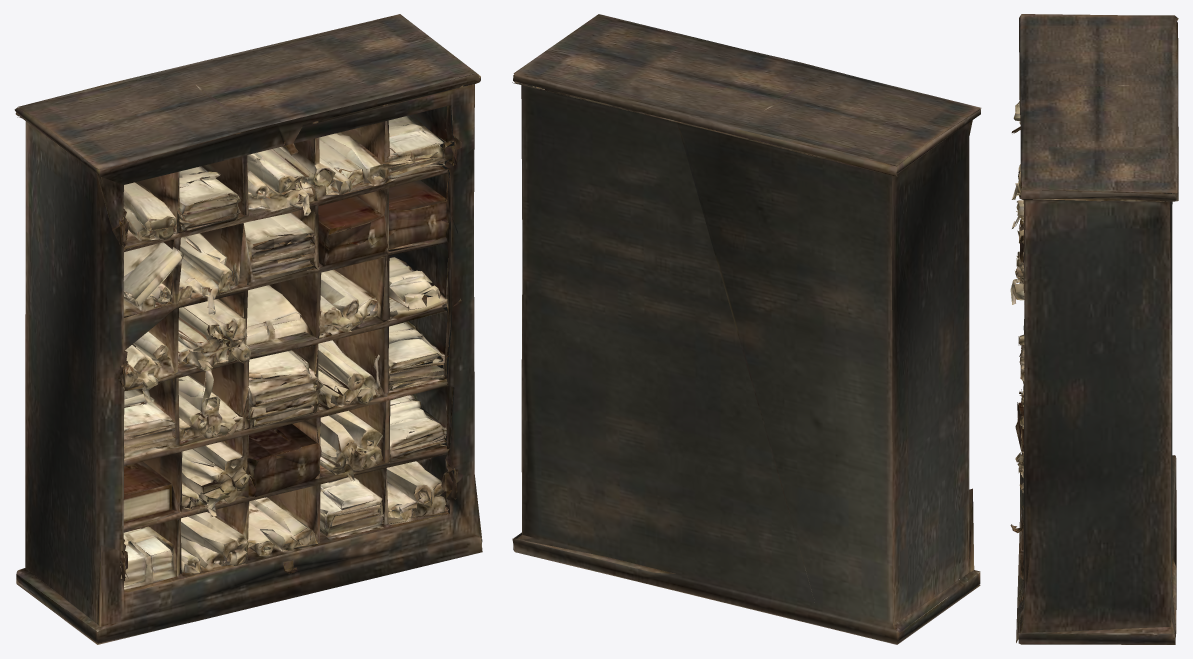
The model's file is court-record-pigeonholes.glb.
3 views of the same model, side by side, from view 1: azimuth 30°, elevation 25°; view 2: azimuth 150°, elevation 25°; view 3: azimuth 270°, elevation 25° (orthographic). The views are drawn at different scales.
Visible parts, largest first — view 1: Mesh_0; view 2: Mesh_0; view 3: Mesh_0.
Boxes of the visible parts, x1=… form: Mesh_0: x1=14, y1=14, x2=482, y2=644; Mesh_0: x1=512, y1=14, x2=981, y2=644; Mesh_0: x1=1010, y1=14, x2=1178, y2=644.
Bounding box in the file's own units: 1.6 × 1.9 × 0.6382.
1 material, 1 textured.
